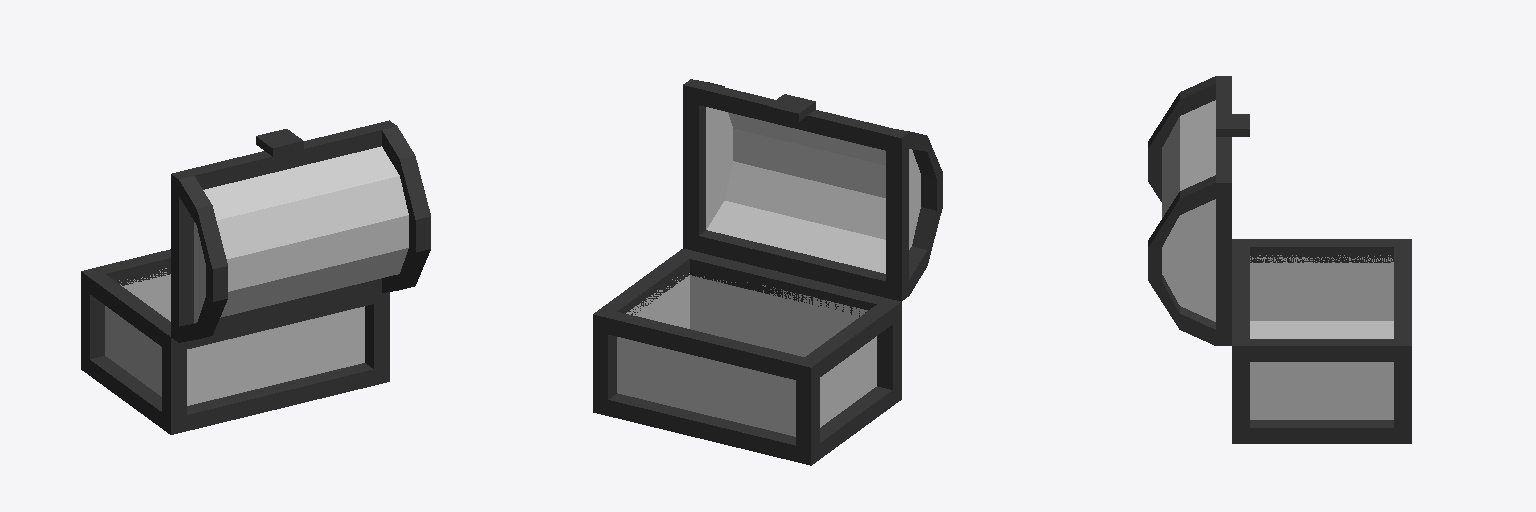
File: chest.obj
3 views of the same model, side by side, from view 1: azimuth 30°, elevation 25°; view 2: azimuth 150°, elevation 25°; view 3: azimuth 270°, elevation 25° (orthographic).
Size of the model in its own units: 112 by 132 by 117.